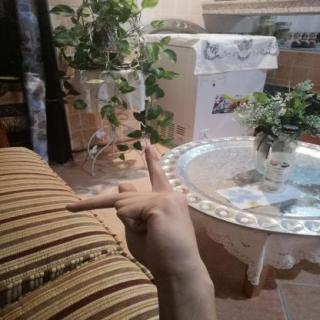DHAA: (54, 140, 214, 287)
